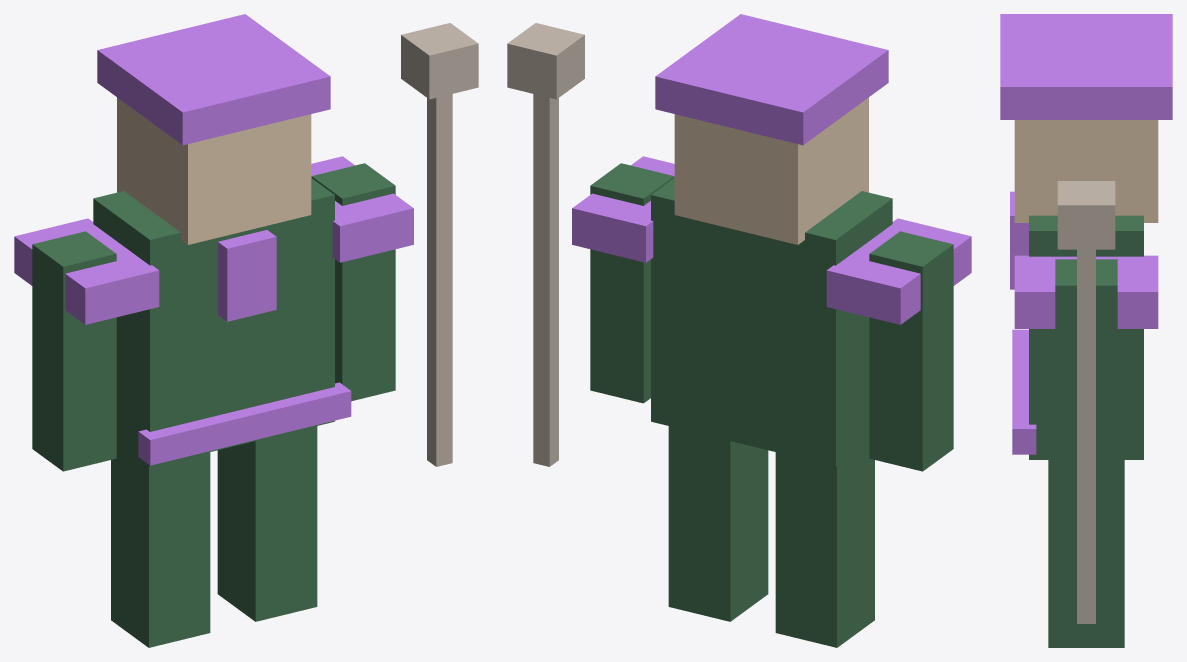
Rendered from 04_rook_gantryn_mechanist_under_mycelial.glb.
3 renders of one model, left to right at view 1: azimuth 30°, elevation 25°; view 2: azimuth 150°, elevation 25°; view 3: azimuth 270°, elevation 25°, orthographic.
Visible parts, largest first — view 1: Rook Gantryn, Mechanist under Mycelial; view 2: Rook Gantryn, Mechanist under Mycelial; view 3: Rook Gantryn, Mechanist under Mycelial.
Boxes of the visible parts, x1=… form: Rook Gantryn, Mechanist under Mycelial: x1=14, y1=14, x2=478, y2=647; Rook Gantryn, Mechanist under Mycelial: x1=507, y1=14, x2=971, y2=647; Rook Gantryn, Mechanist under Mycelial: x1=1000, y1=14, x2=1172, y2=647.
Size of the model in its own units: 1.1 by 1.39 by 0.3899.
